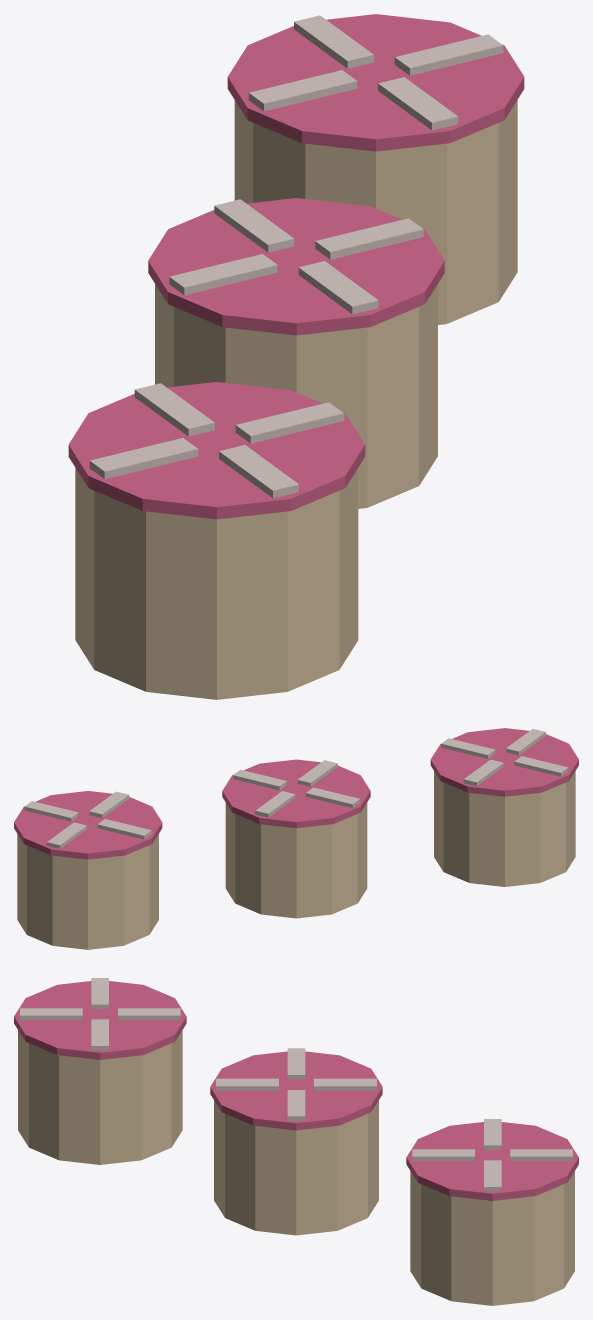
The model's file is Candyland_PeppermintBumpers_Standard.glb.
The picture shows the model from 3 angles, top to bottom: view 1: azimuth 30°, elevation 25°; view 2: azimuth 150°, elevation 25°; view 3: azimuth 270°, elevation 25°; orthographic projection. The views are drawn at different scales.
Visible parts, largest first — view 1: Candyland_PeppermintBumpers_Standard; view 2: Candyland_PeppermintBumpers_Standard; view 3: Candyland_PeppermintBumpers_Standard.
Part boxes in pixels (x1,y1,x2,y2): Candyland_PeppermintBumpers_Standard: [68, 14, 524, 699]; Candyland_PeppermintBumpers_Standard: [14, 728, 578, 949]; Candyland_PeppermintBumpers_Standard: [14, 978, 578, 1305].
Size of the model in its own units: 2.58 by 0.665 by 2.88.
